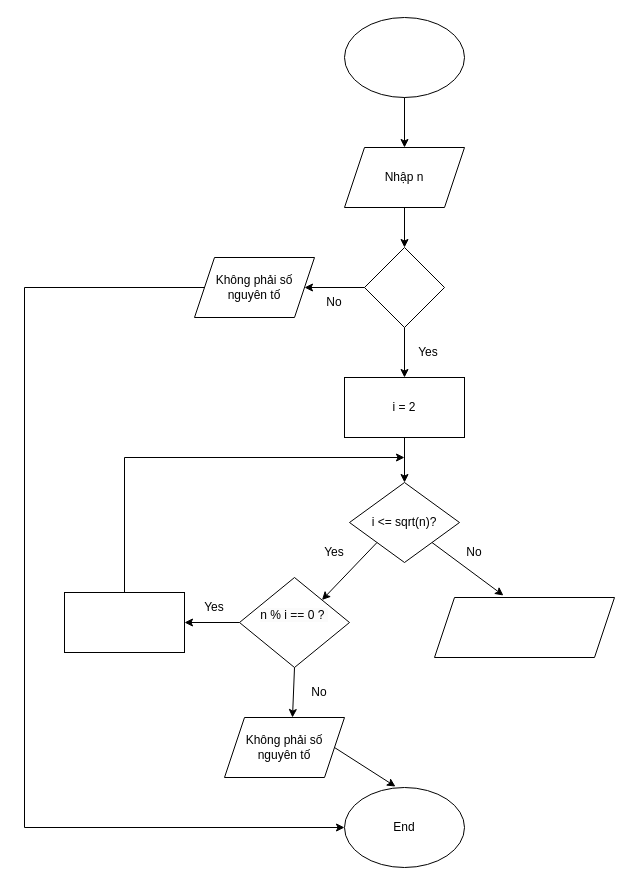
Image size: 632x885. Some labels were removed from this diagram. The shapes that lost their labels are listed below. From the top down, each one's centre as x and y in pixels, then its label:
point 404,57: Start
point 404,287: n > 1 ?
point 124,622: i++
point 524,627: Hiển thị số nguyên tố i
